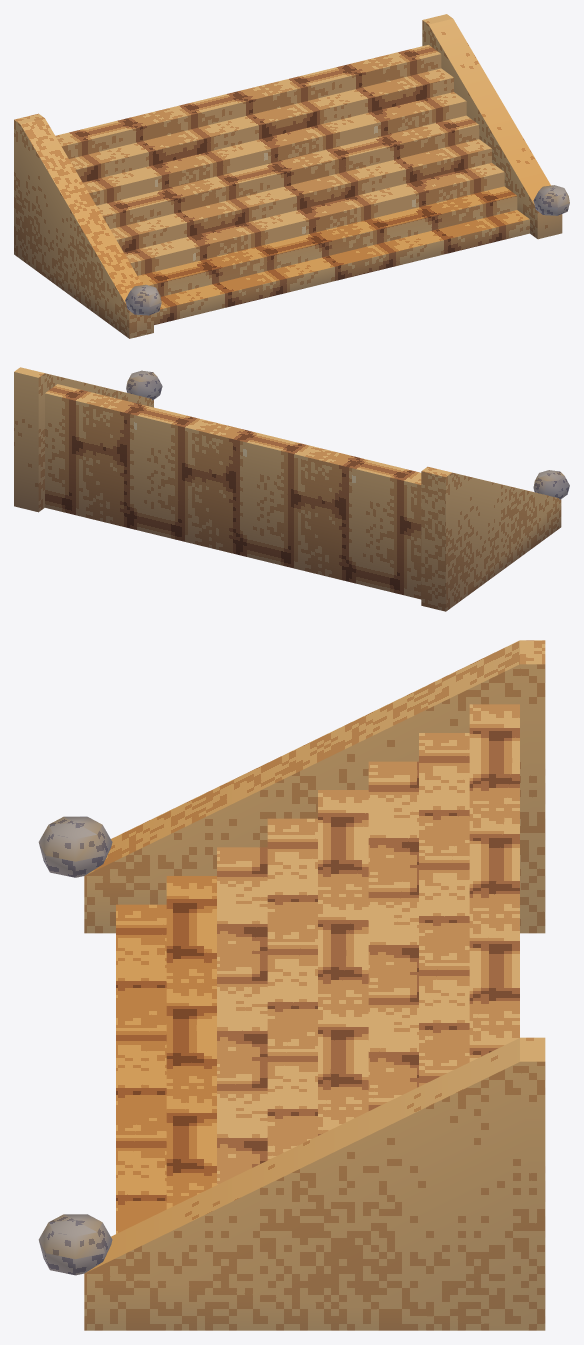
File: ruin.stairs__wide.glb
3 renders of one model, top to bottom at view 1: azimuth 30°, elevation 25°; view 2: azimuth 150°, elevation 25°; view 3: azimuth 270°, elevation 25°, orthographic. The views are drawn at different scales.
Visible parts, largest first — view 1: kit_flight, kit_balustrades, kit_terminals; view 2: kit_flight, kit_balustrades, kit_terminals; view 3: kit_flight, kit_balustrades, kit_terminals.
Boxes of the visible parts, bbox=[...] form: kit_flight: bbox=[55, 45, 529, 324]; kit_balustrades: bbox=[14, 14, 562, 338]; kit_terminals: bbox=[125, 185, 569, 315]; kit_flight: bbox=[45, 384, 421, 599]; kit_balustrades: bbox=[14, 367, 561, 611]; kit_terminals: bbox=[126, 370, 569, 499]; kit_flight: bbox=[116, 704, 519, 1233]; kit_balustrades: bbox=[84, 640, 545, 1330]; kit_terminals: bbox=[38, 816, 112, 1275].
Bounding box in the file's own units: 8.02 × 2.35 × 4.01.
Materials: 3 (3 with a texture image).
